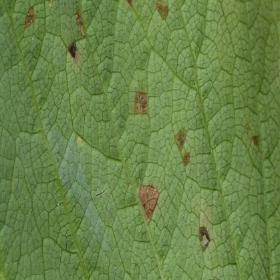Angular Leafspot: (18, 0, 270, 255)
